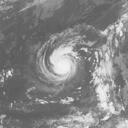cyclone: (38, 33, 81, 83)
